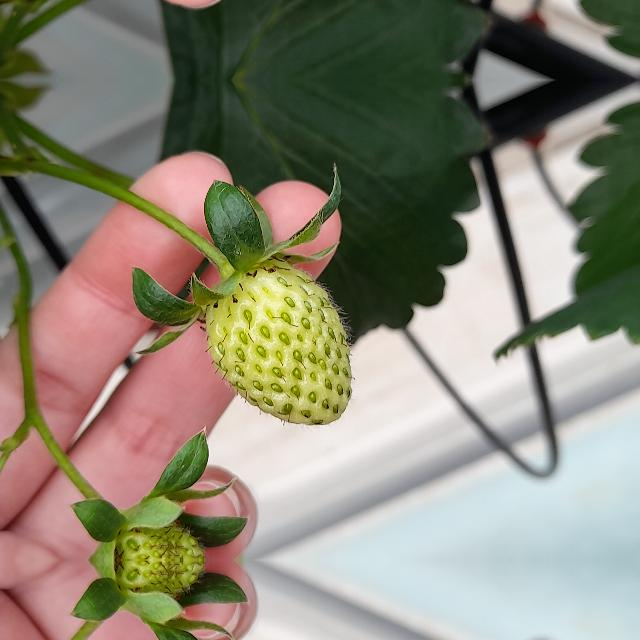Health_25: (205, 256, 351, 426)
